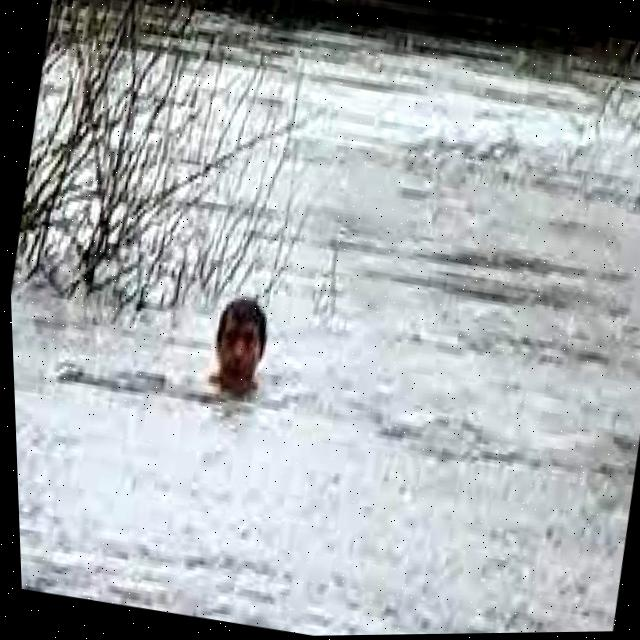civilian: (171, 260, 310, 441)
